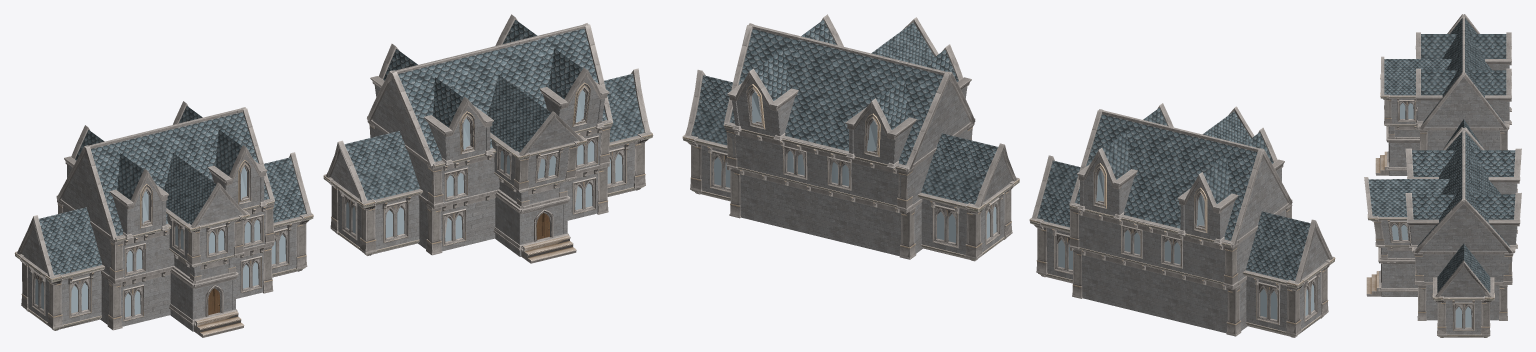
Rendered from City_Homes_E.fbx.
3 renders of one model, left to right at view 1: azimuth 30°, elevation 25°; view 2: azimuth 150°, elevation 25°; view 3: azimuth 270°, elevation 25°, orthographic. The views are drawn at different scales.
Visible parts, largest first — view 1: City_Home_E1, City_Home_E2, City_Home_E1.001, City_Home_E2.002, City_Home_E2.001, City_Home_E1.002, City_Home_E2.003, City_Home_E1.003; view 2: City_Home_E1, City_Home_E2, City_Home_E1.001, City_Home_E2.001, City_Home_E2.002, City_Home_E2.003, City_Home_E1.002, City_Home_E1.003; view 3: City_Home_E2, City_Home_E1, City_Home_E2.001, City_Home_E2.002, City_Home_E1.001, City_Home_E2.003, City_Home_E1.002, City_Home_E1.003.
Boxes of the visible parts, bbox=[...] form: City_Home_E1: bbox=[15, 101, 313, 335]; City_Home_E2: bbox=[323, 14, 652, 261]; City_Home_E1.001: bbox=[15, 111, 313, 333]; City_Home_E2.002: bbox=[323, 20, 652, 261]; City_Home_E2.001: bbox=[323, 33, 652, 260]; City_Home_E1.002: bbox=[15, 111, 313, 337]; City_Home_E2.003: bbox=[324, 23, 653, 263]; City_Home_E1.003: bbox=[14, 106, 313, 337]; City_Home_E1: bbox=[1029, 103, 1334, 337]; City_Home_E2: bbox=[682, 14, 1019, 260]; City_Home_E1.001: bbox=[1031, 111, 1334, 337]; City_Home_E2.001: bbox=[683, 20, 1017, 260]; City_Home_E2.002: bbox=[683, 20, 1019, 260]; City_Home_E2.003: bbox=[682, 22, 1019, 260]; City_Home_E1.002: bbox=[1030, 107, 1334, 337]; City_Home_E1.003: bbox=[1029, 132, 1335, 336]; City_Home_E2: bbox=[1364, 127, 1521, 337]; City_Home_E1: bbox=[1375, 14, 1511, 175]; City_Home_E2.001: bbox=[1367, 127, 1519, 337]; City_Home_E2.002: bbox=[1365, 139, 1520, 337]; City_Home_E1.001: bbox=[1375, 25, 1511, 175]; City_Home_E2.003: bbox=[1367, 127, 1521, 337]; City_Home_E1.002: bbox=[1375, 26, 1511, 175]; City_Home_E1.003: bbox=[1376, 34, 1511, 175].
Size of the model in its own units: 6170 by 1593 by 1831.
